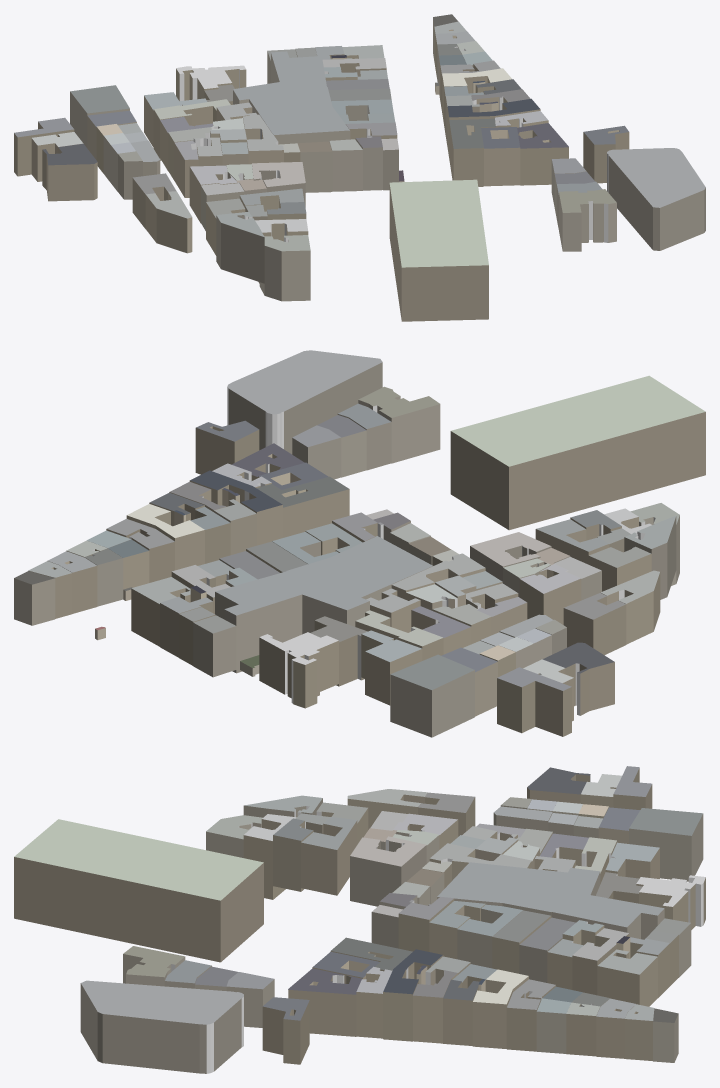
3 views of the same model, one above another, from view 1: azimuth 30°, elevation 25°; view 2: azimuth 150°, elevation 25°; view 3: azimuth 270°, elevation 25° (orthographic). The views are drawn at different scales.
Parts seen in each view (by area): view 1: tuile; view 2: tuile; view 3: tuile.
Boxes of the visible parts, x1,y1,x2,y2 form: tuile: [14, 14, 705, 321]; tuile: [14, 350, 705, 737]; tuile: [14, 766, 705, 1073].
Bounding box in the file's own units: 285 × 41.92 × 312.
